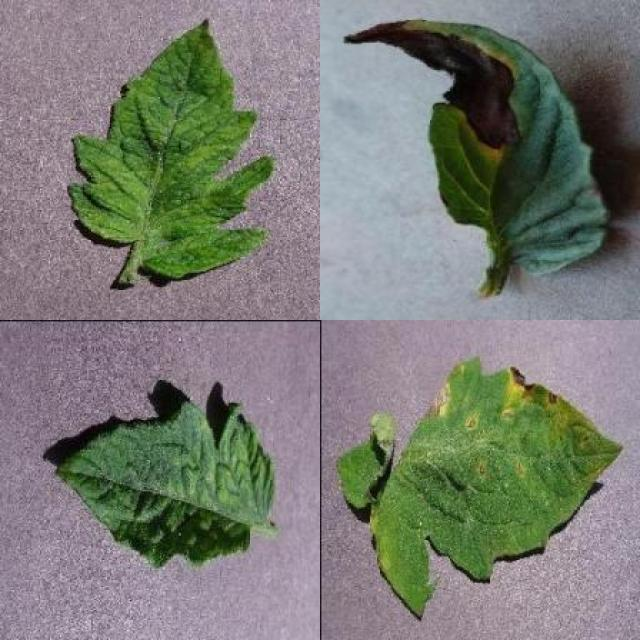Early Blight: (342, 17, 614, 277)
Mosaic Virus: (64, 15, 276, 278), (55, 396, 275, 570)
Septoria: (375, 355, 625, 618)
